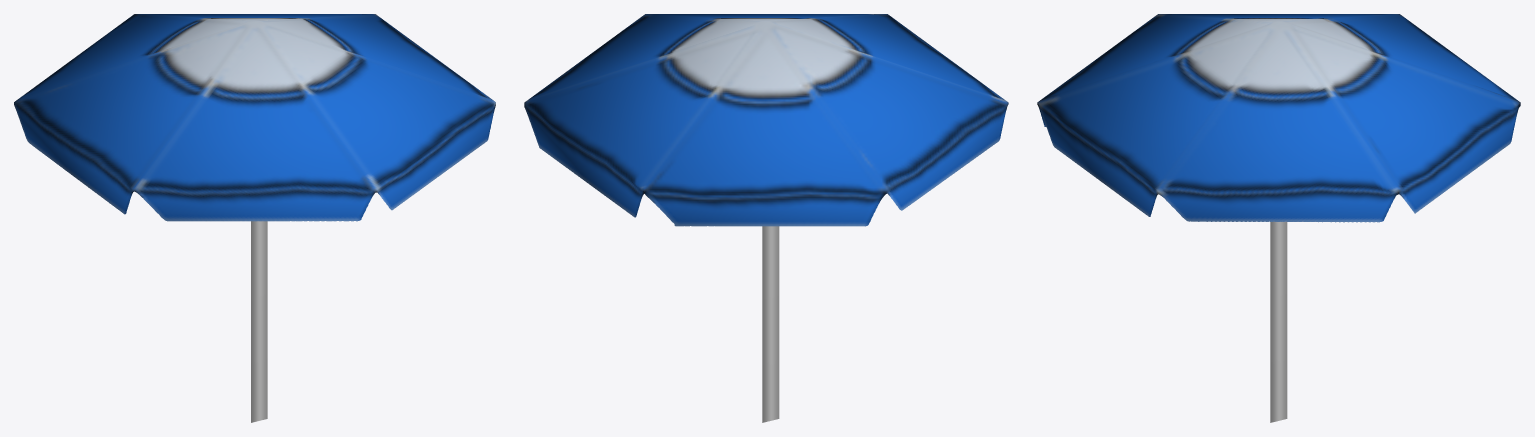
Rendered from parasol1.fbx.
3 views of the same model, side by side, from view 1: azimuth 30°, elevation 25°; view 2: azimuth 150°, elevation 25°; view 3: azimuth 270°, elevation 25° (orthographic).
Parts seen in each view (by area): view 1: parasol2.001; view 2: parasol2.001; view 3: parasol2.001.
Part boxes in pixels (x1,y1,x2,y2): parasol2.001: (14,14,495,422); parasol2.001: (524,14,1008,422); parasol2.001: (1037,14,1520,422).
Bounding box in the file's own units: 375 × 393 × 433.
1 material, 1 textured.
